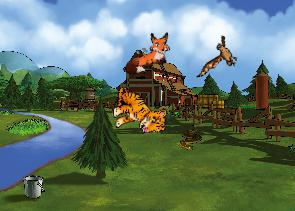eagle: (196, 31, 242, 85)
fox: (117, 28, 177, 77)
tiger: (111, 87, 167, 134)
